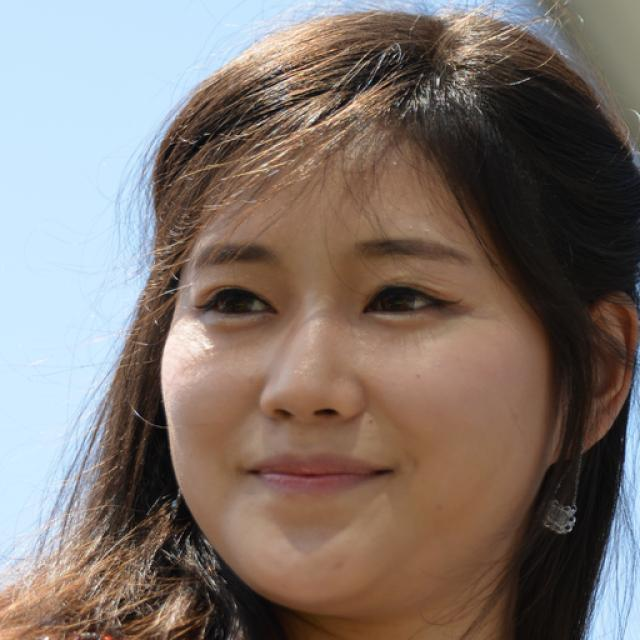happy: (150, 78, 556, 612)
